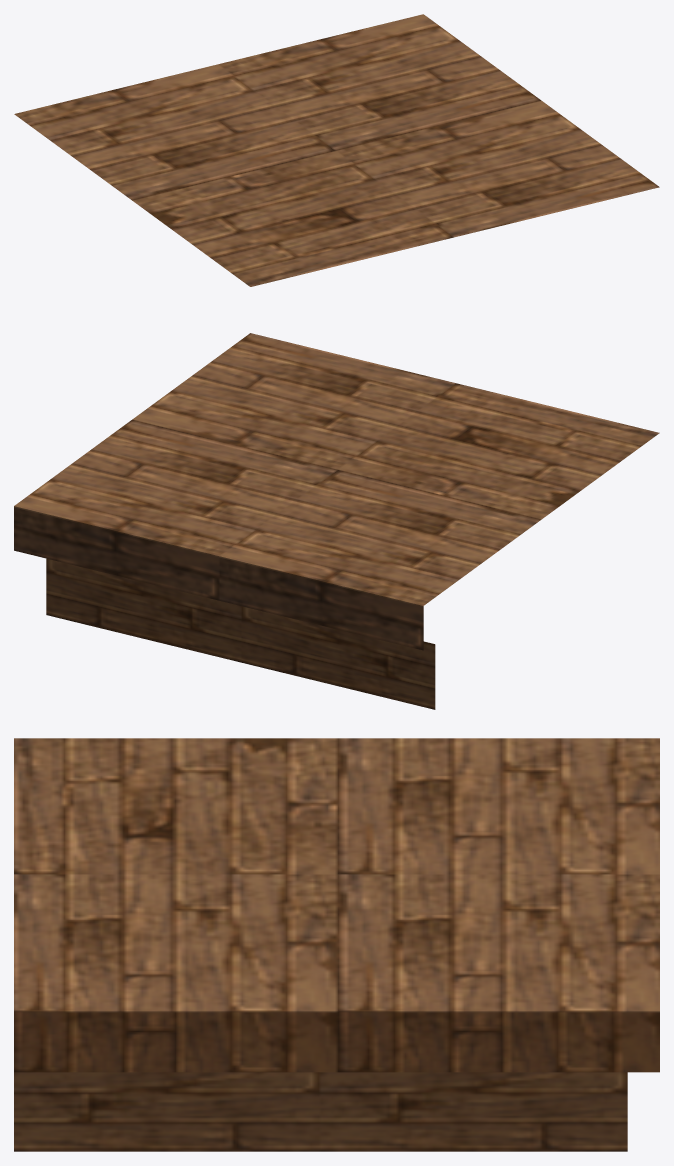
File: a_SWGutile02.glb
3 renders of one model, top to bottom at view 1: azimuth 30°, elevation 25°; view 2: azimuth 150°, elevation 25°; view 3: azimuth 270°, elevation 25°, orthographic. The views are drawn at different scales.
Visible parts, largest first — view 1: a_SWGutile02; view 2: a_SWGutile02; view 3: a_SWGutile02.
Part boxes in pixels (box(x1,y1,x2,y2)): a_SWGutile02: box(14, 14, 659, 286); a_SWGutile02: box(14, 333, 659, 709); a_SWGutile02: box(14, 738, 659, 1151).
Bounding box in the file's own units: 2 × 0.5254 × 2.
Materials: 1 (1 with a texture image).
